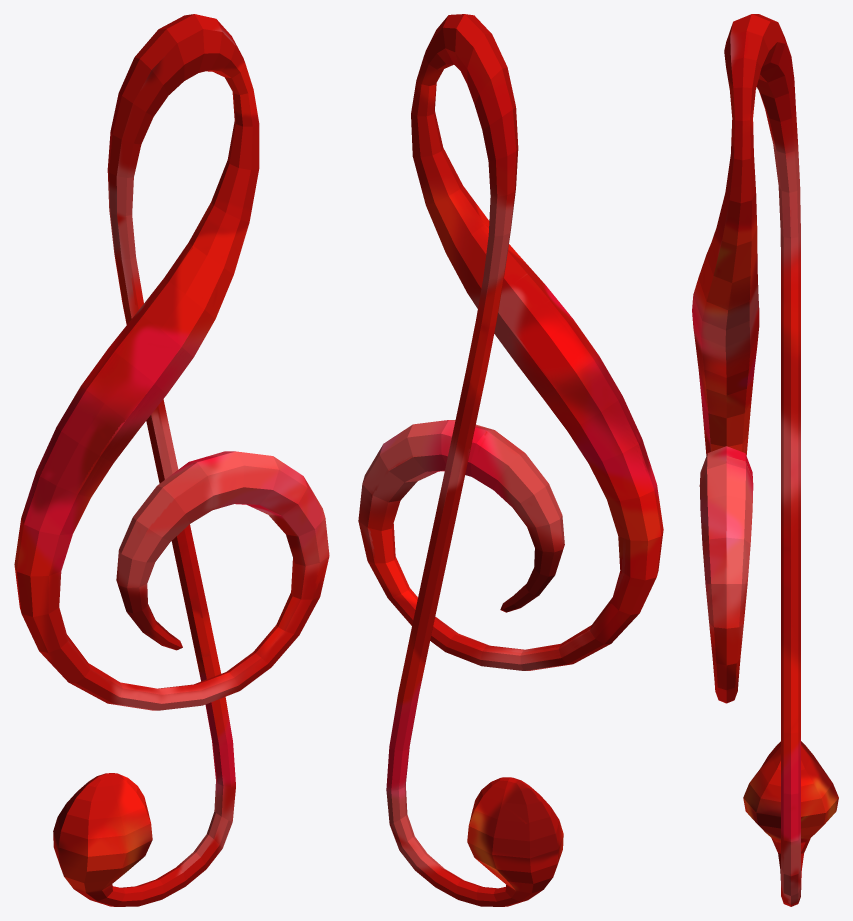
The model's file is NotaMusical.fbx.
3 renders of one model, left to right at view 1: azimuth 30°, elevation 25°; view 2: azimuth 150°, elevation 25°; view 3: azimuth 270°, elevation 25°, orthographic. The views are drawn at different scales.
Visible parts, largest first — view 1: Cube; view 2: Cube; view 3: Cube.
Boxes of the visible parts, <box> form: Cube: <box>14,14,329,906</box>; Cube: <box>358,14,663,906</box>; Cube: <box>692,14,838,906</box>.
Bounding box in the file's own units: 145 × 400 × 59.44.
